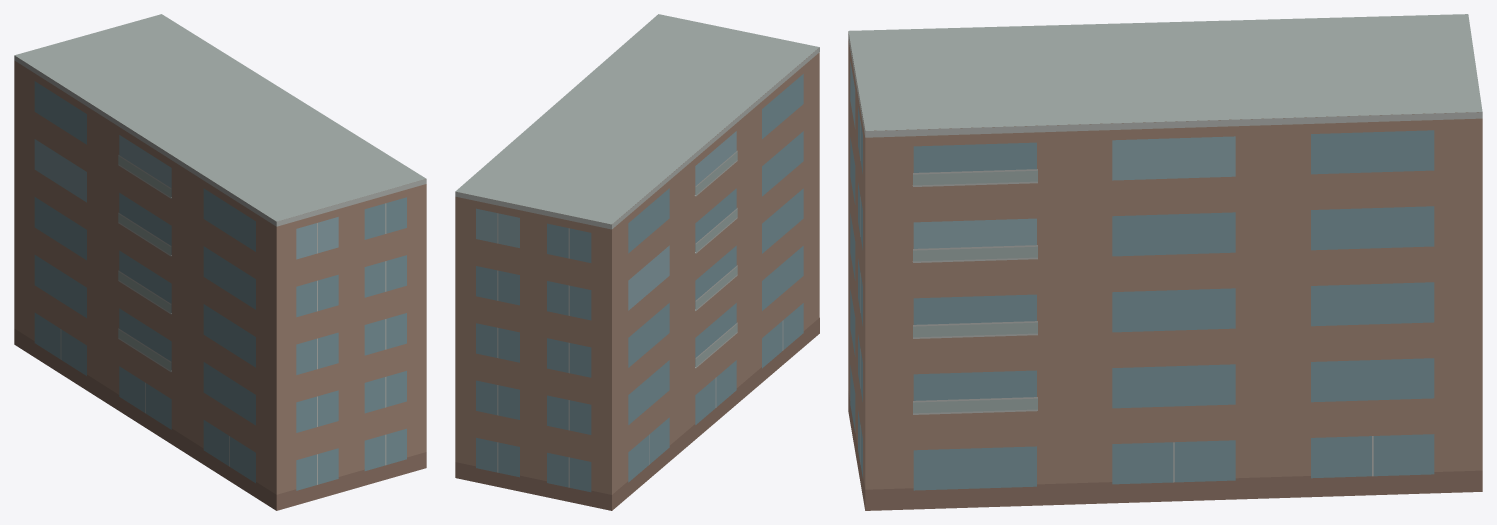
Rendered from survey-upis-32703186.glb.
3 renders of one model, left to right at view 1: azimuth 30°, elevation 25°; view 2: azimuth 150°, elevation 25°; view 3: azimuth 270°, elevation 25°, orthographic. The views are drawn at different scales.
Visible parts, largest first — view 1: survey-upis-32703186.tmp; view 2: survey-upis-32703186.tmp; view 3: survey-upis-32703186.tmp.
Boxes of the visible parts, x1,y1,x2,y2 form: survey-upis-32703186.tmp: (14, 14, 426, 510); survey-upis-32703186.tmp: (455, 14, 819, 510); survey-upis-32703186.tmp: (848, 14, 1482, 510).
Size of the model in its own units: 9.2 by 13.9 by 21.05.
